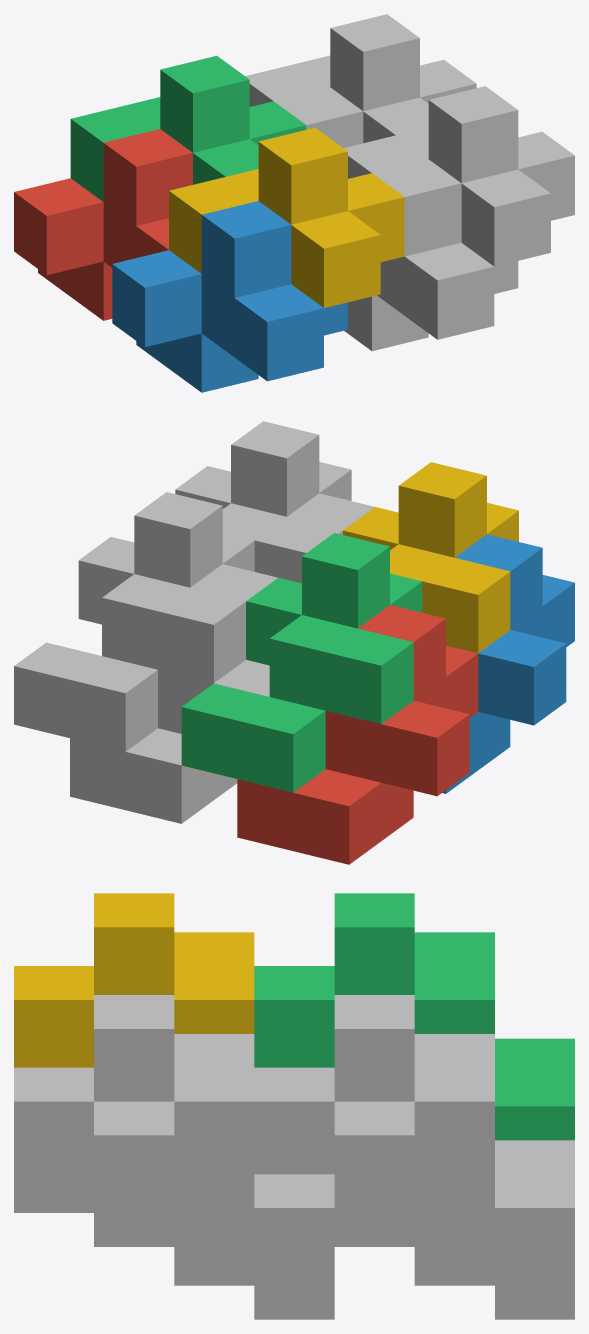
The model's file is tiling.obj.
3 views of the same model, one above another, from view 1: azimuth 30°, elevation 25°; view 2: azimuth 150°, elevation 25°; view 3: azimuth 270°, elevation 25° (orthographic). The views are drawn at different scales.
Visible parts, largest first — view 1: copy_1_domain_2, copy_1_domain_4, copy_1_domain_8, copy_1_domain_1, copy_1_domain_6, copy_1_domain_3, copy_1_domain_7, copy_1_domain_5; view 2: copy_1_domain_3, copy_1_domain_7, copy_1_domain_1, copy_1_domain_4, copy_1_domain_2, copy_1_domain_5, copy_1_domain_8, copy_1_domain_6; view 3: copy_1_domain_7, copy_1_domain_8, copy_1_domain_3, copy_1_domain_4, copy_1_domain_6, copy_1_domain_5.
Boxes of the visible parts, bbox=[...] form: copy_1_domain_2: bbox=[112, 201, 347, 392]; copy_1_domain_4: bbox=[169, 127, 404, 307]; copy_1_domain_8: bbox=[343, 86, 574, 266]; copy_1_domain_1: bbox=[14, 129, 192, 320]; copy_1_domain_6: bbox=[344, 159, 518, 351]; copy_1_domain_3: bbox=[70, 55, 306, 201]; copy_1_domain_7: bbox=[245, 14, 476, 143]; copy_1_domain_5: bbox=[274, 87, 363, 147]; copy_1_domain_3: bbox=[181, 533, 422, 792]; copy_1_domain_7: bbox=[14, 492, 254, 751]; copy_1_domain_1: bbox=[237, 605, 478, 864]; copy_1_domain_4: bbox=[343, 462, 518, 653]; copy_1_domain_2: bbox=[442, 534, 574, 793]; copy_1_domain_5: bbox=[70, 564, 277, 823]; copy_1_domain_8: bbox=[175, 421, 351, 583]; copy_1_domain_6: bbox=[287, 493, 374, 530]; copy_1_domain_7: bbox=[254, 995, 574, 1280]; copy_1_domain_8: bbox=[14, 995, 334, 1280]; copy_1_domain_3: bbox=[254, 893, 574, 1140]; copy_1_domain_4: bbox=[14, 893, 254, 1067]; copy_1_domain_6: bbox=[14, 1174, 334, 1319]; copy_1_domain_5: bbox=[334, 1208, 574, 1319].
Size of the model in its own units: 7 by 4 by 7.
